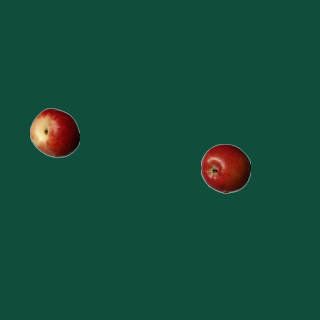Apple Braeburn: (200, 143, 250, 193)
Nectarine: (29, 107, 79, 157)
